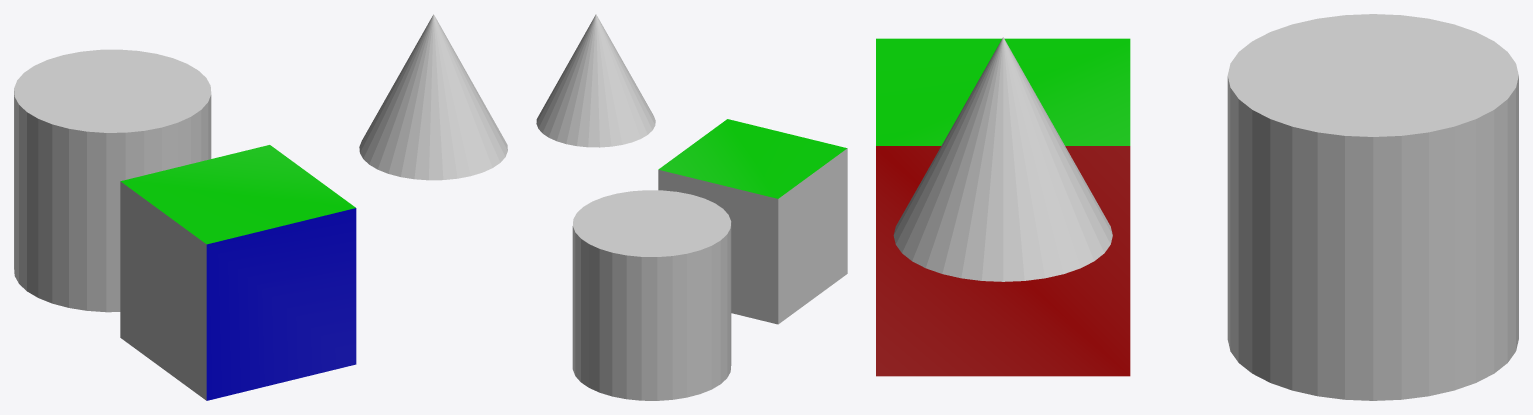
File: hierarchy_test.gltf
3 renders of one model, left to right at view 1: azimuth 30°, elevation 25°; view 2: azimuth 150°, elevation 25°; view 3: azimuth 270°, elevation 25°, orthographic. The views are drawn at different scales.
Parts seen in each view (by area): view 1: Cube, Cylinder, Cone; view 2: Cylinder, Cube, Cone; view 3: Cylinder, Cube, Cone.
Part boxes in pixels (left/top/right/bottom): Cube: left=120, top=145, right=356, bottom=400; Cylinder: left=14, top=49, right=211, bottom=312; Cone: left=359, top=14, right=507, bottom=180; Cylinder: left=572, top=190, right=731, bottom=400; Cube: left=658, top=119, right=847, bottom=324; Cone: left=536, top=14, right=655, bottom=147; Cylinder: left=1227, top=14, right=1518, bottom=400; Cube: left=876, top=38, right=1130, bottom=376; Cone: left=893, top=37, right=1112, bottom=281.
Size of the model in its own units: 2.31 by 1.92 by 2.53.
